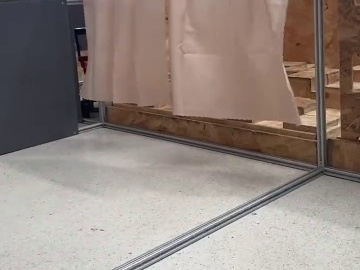curtain: (79, 0, 310, 130)
